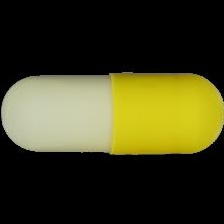55111-339: (0, 0, 224, 224)
